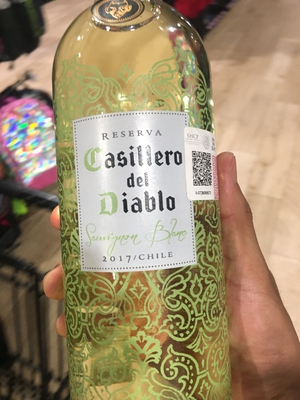casillero del diablo sauvignon blanc: (43, 8, 229, 399)
